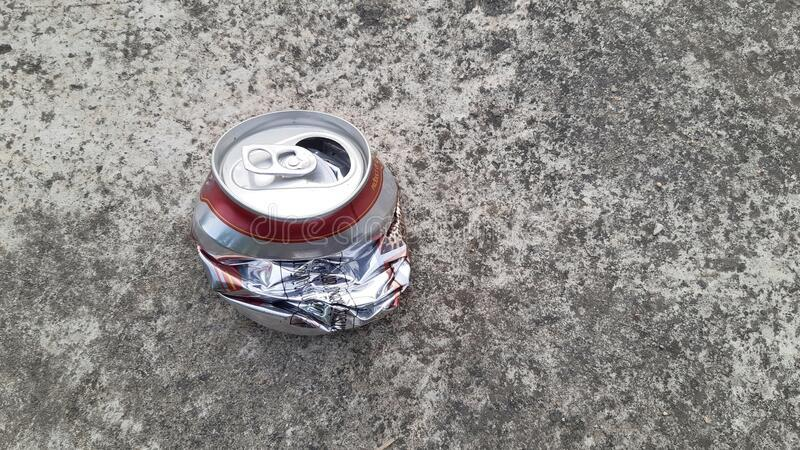metal: (189, 107, 423, 343)
